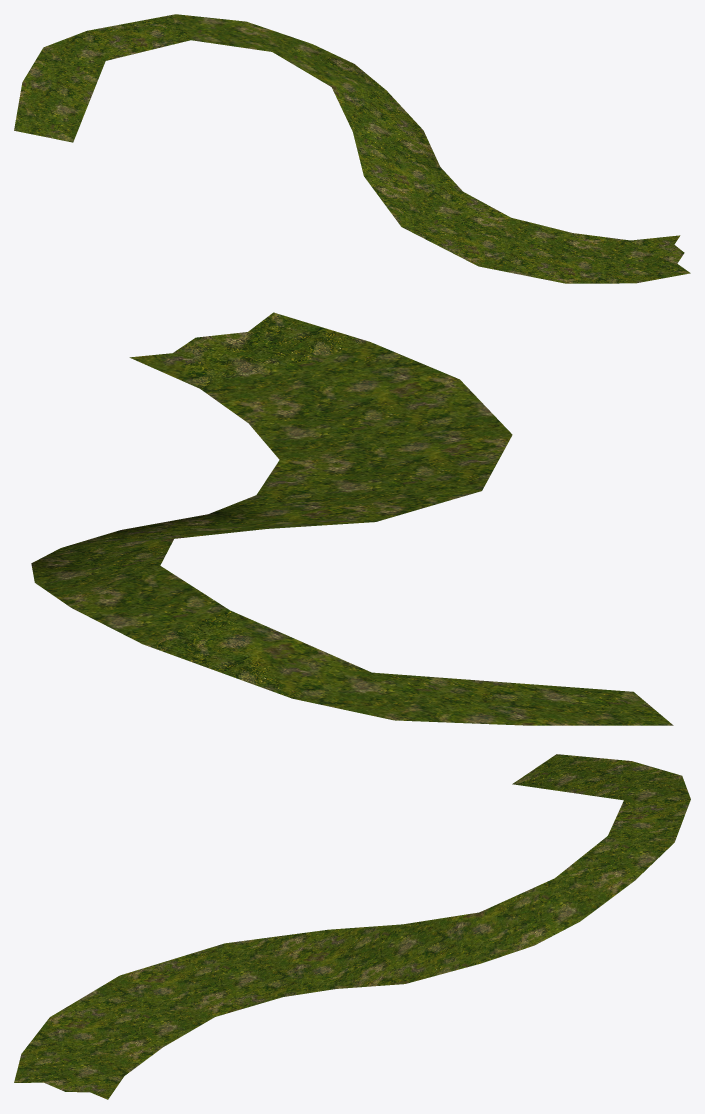
The model's file is OVERHILL_A_01_LINE149.fbx.
The picture shows the model from 3 angles, top to bottom: view 1: azimuth 30°, elevation 25°; view 2: azimuth 150°, elevation 25°; view 3: azimuth 270°, elevation 25°; orthographic projection. The views are drawn at different scales.
Parts seen in each view (by area): view 1: OVERHILL_A_01_LINE149; view 2: OVERHILL_A_01_LINE149; view 3: OVERHILL_A_01_LINE149.
Boxes of the visible parts, <box> form: OVERHILL_A_01_LINE149: <box>14,14,690,283</box>; OVERHILL_A_01_LINE149: <box>31,312,673,725</box>; OVERHILL_A_01_LINE149: <box>14,754,690,1099</box>.
Size of the model in its own units: 109260 by 22570 by 119930.
1 material, 1 textured.
